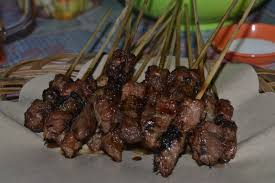sate: (18, 43, 257, 180)
